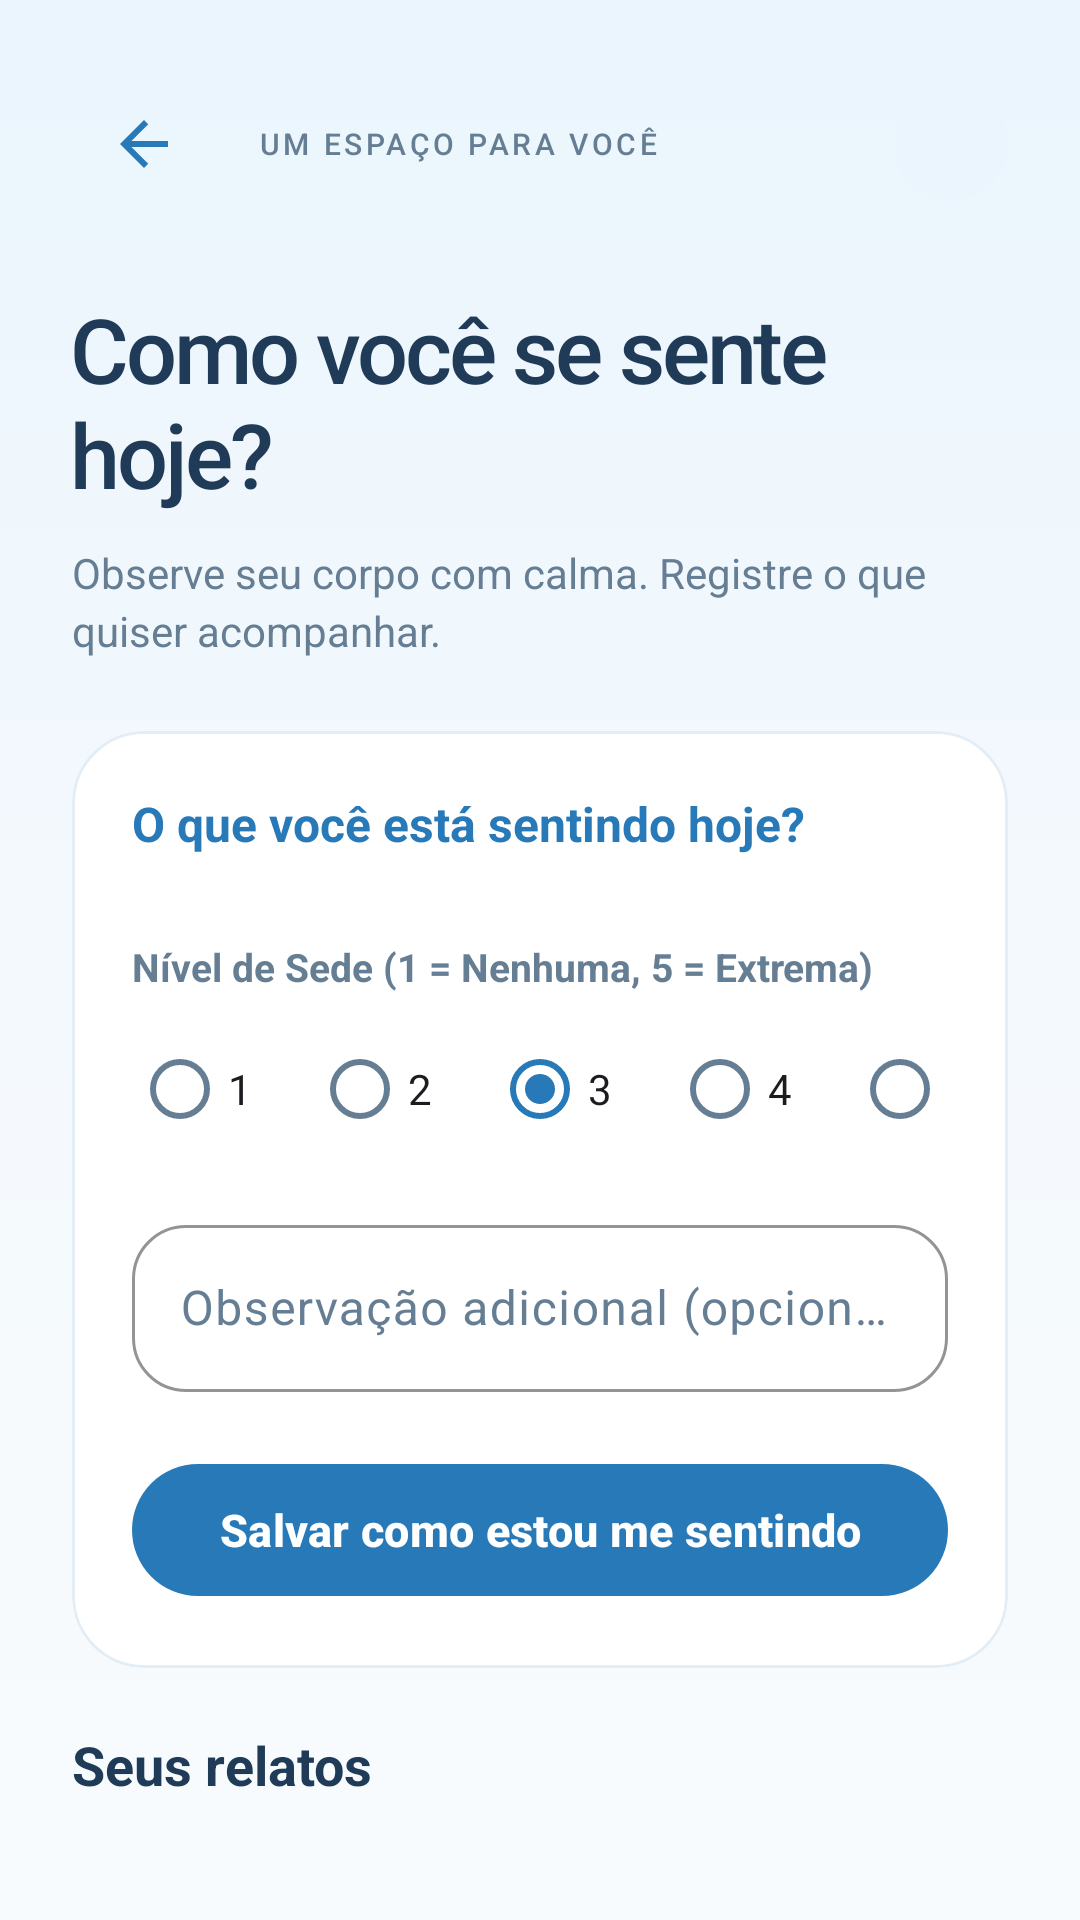

Where icons sit on this 1080x1920 app screen, as (x1=x1, y1=y1, x2=x2, y2=y2):
Voltar: (x1=120, y1=120, x2=168, y2=168)
